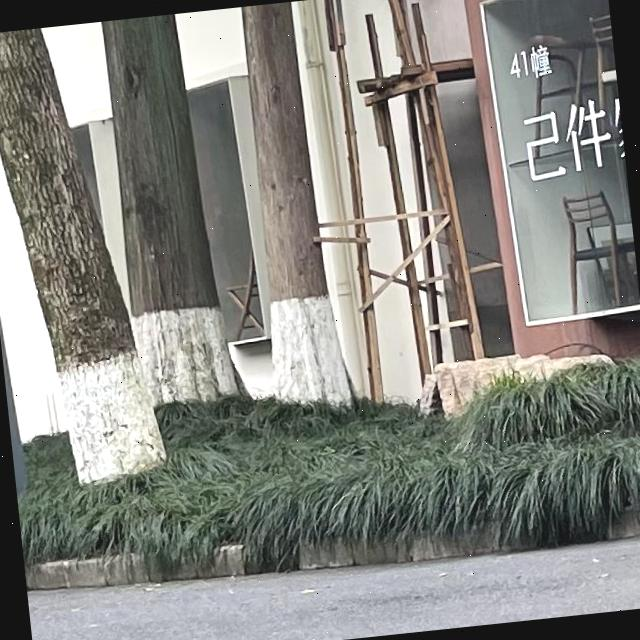curb: (24, 544, 260, 590), (294, 531, 526, 570), (613, 511, 640, 539)
